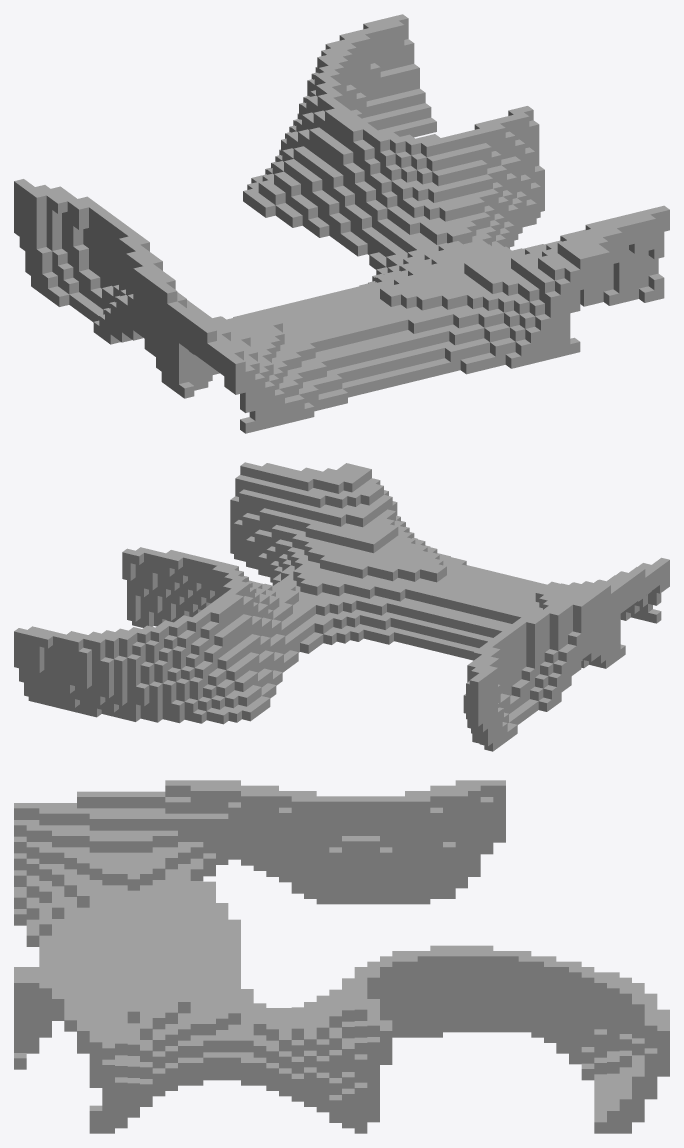
File: church6-16.obj
3 views of the same model, one above another, from view 1: azimuth 30°, elevation 25°; view 2: azimuth 150°, elevation 25°; view 3: azimuth 270°, elevation 25° (orthographic). The views are drawn at different scales.
Parts seen in each view (by area): view 1: church6-16; view 2: church6-16; view 3: church6-16.
Part boxes in pixels (<box>): church6-16: <box>14,14,669,433</box>; church6-16: <box>14,462,669,751</box>; church6-16: <box>14,780,669,1133</box>.
Bounding box in the file's own units: 47 × 9 × 52.
Materials: 1 (1 with a texture image).
